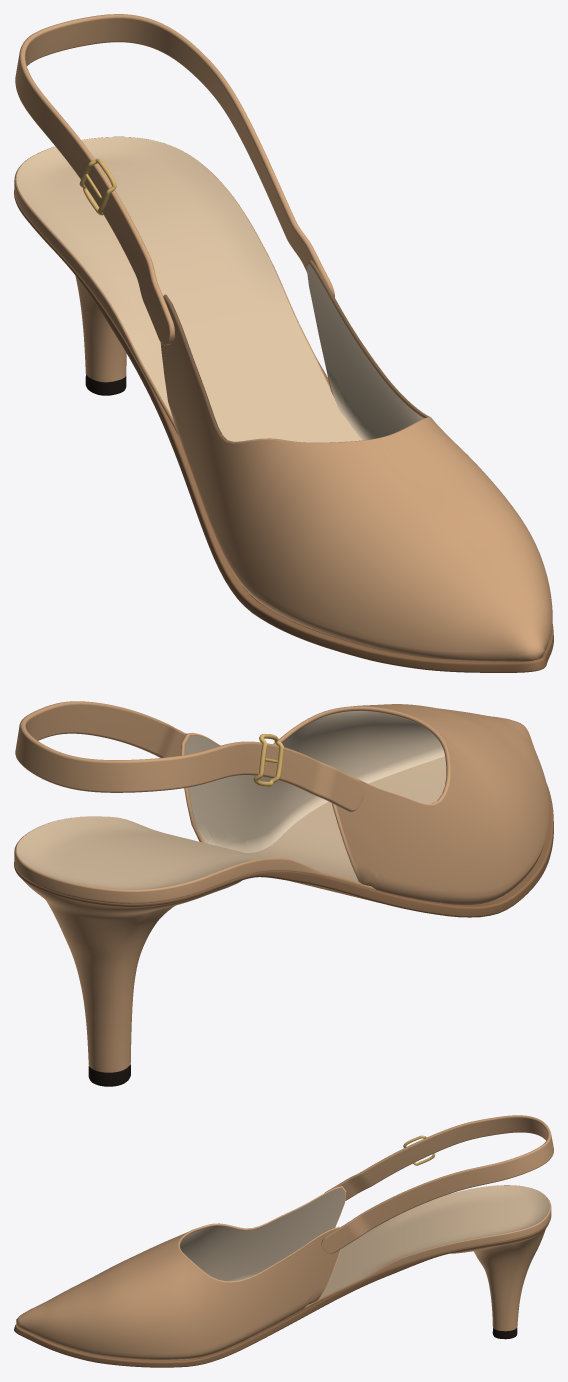
The model's file is women_dress_b.glb.
The picture shows the model from 3 angles, top to bottom: view 1: azimuth 30°, elevation 25°; view 2: azimuth 150°, elevation 25°; view 3: azimuth 270°, elevation 25°; orthographic projection. The views are drawn at different scales.
Parts seen in each view (by area): view 1: upper, sock, strap, sole, lining, sockband, heel; view 2: upper, sock, strap, lining, heel, sole, sockband, buckle, toplift; view 3: upper, sock, strap, lining, heel, sole, sockband.
Part boxes in pixels (<box>): upper: <box>160,260,552,661</box>; sock: <box>16,137,362,442</box>; strap: <box>15,14,334,345</box>; sole: <box>14,190,553,672</box>; lining: <box>306,263,423,440</box>; sockband: <box>14,136,540,661</box>; heel: <box>33,228,126,382</box>; upper: <box>180,704,549,904</box>; sock: <box>16,756,446,889</box>; strap: <box>15,701,363,811</box>; lining: <box>185,711,444,852</box>; heel: <box>23,880,241,1072</box>; sole: <box>14,784,553,917</box>; sockband: <box>14,817,527,904</box>; buckle: <box>253,734,283,786</box>; toplift: <box>88,1064,130,1086</box>; upper: <box>16,1186,346,1359</box>; sock: <box>320,1185,549,1297</box>; strap: <box>321,1115,553,1253</box>; lining: <box>180,1188,345,1281</box>; heel: <box>450,1224,548,1331</box>; sole: <box>14,1216,551,1367</box>; sockband: <box>20,1185,551,1360</box>.
Size of the model in its own units: 75.89 by 104 by 253.
